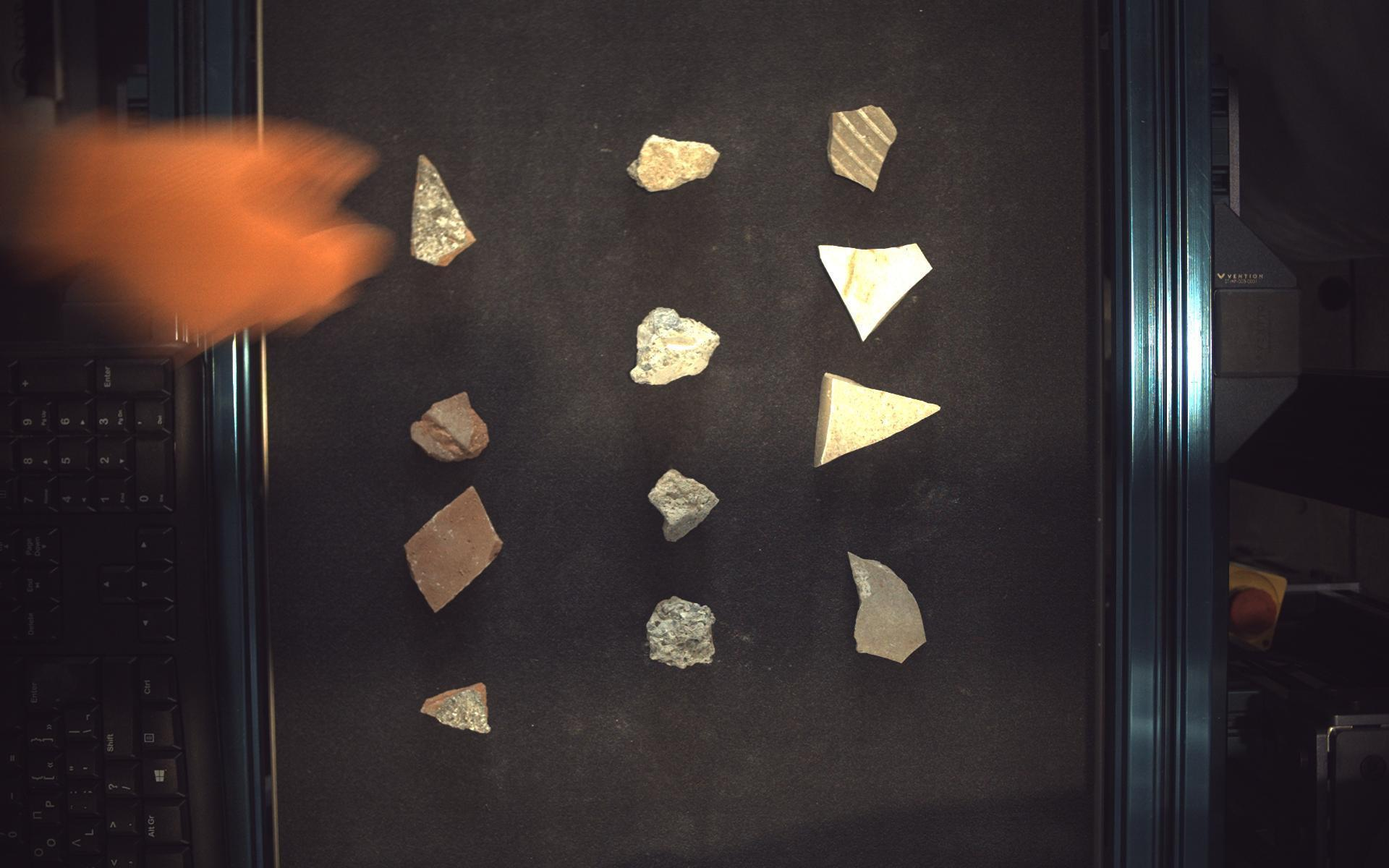brick: (404, 487, 503, 613), (411, 153, 476, 266), (410, 392, 489, 462), (421, 684, 490, 735)
concrete: (632, 307, 721, 385), (627, 134, 721, 191), (649, 469, 720, 542), (647, 597, 716, 670)
tile: (815, 373, 942, 467), (820, 243, 933, 341), (849, 553, 928, 663), (828, 104, 898, 190)
